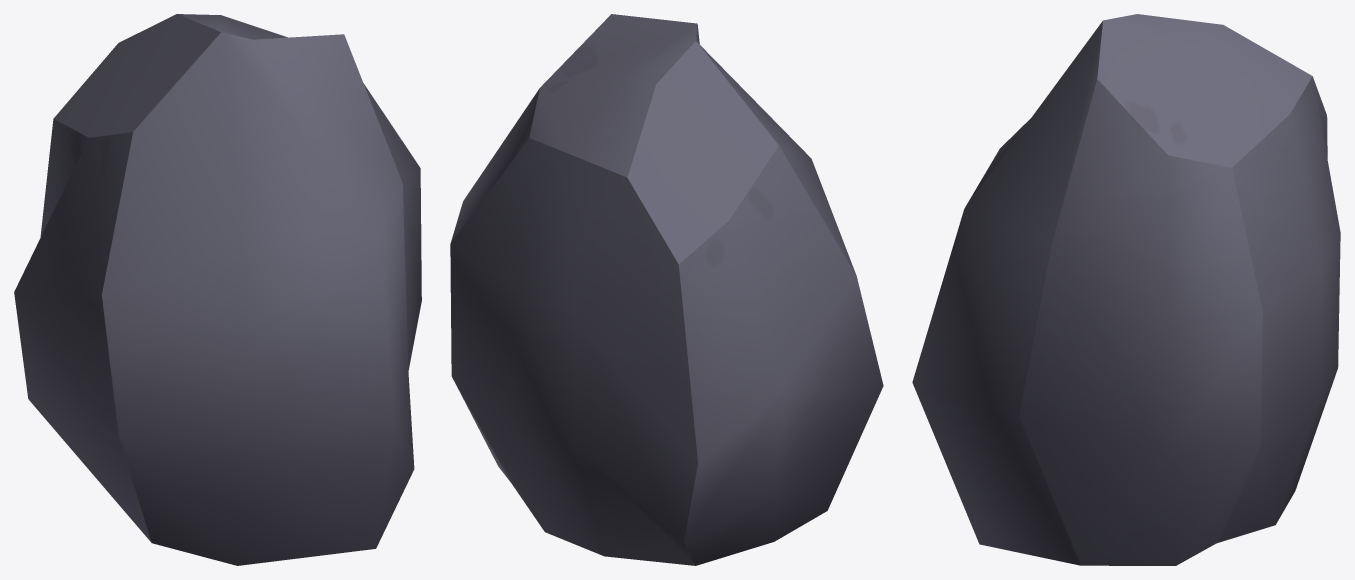
Rendered from rock_3.fbx.
3 views of the same model, side by side, from view 1: azimuth 30°, elevation 25°; view 2: azimuth 150°, elevation 25°; view 3: azimuth 270°, elevation 25° (orthographic). The views are drawn at different scales.
Visible parts, largest first — view 1: rock_3; view 2: rock_3; view 3: rock_3.
Boxes of the visible parts, bbox=[...] form: rock_3: bbox=[14, 14, 421, 565]; rock_3: bbox=[450, 14, 883, 565]; rock_3: bbox=[912, 14, 1340, 565].
Bounding box in the file's own units: 1.19 × 1.55 × 1.18.
